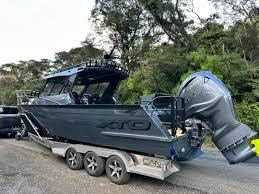fishing boat: (15, 51, 259, 162)
